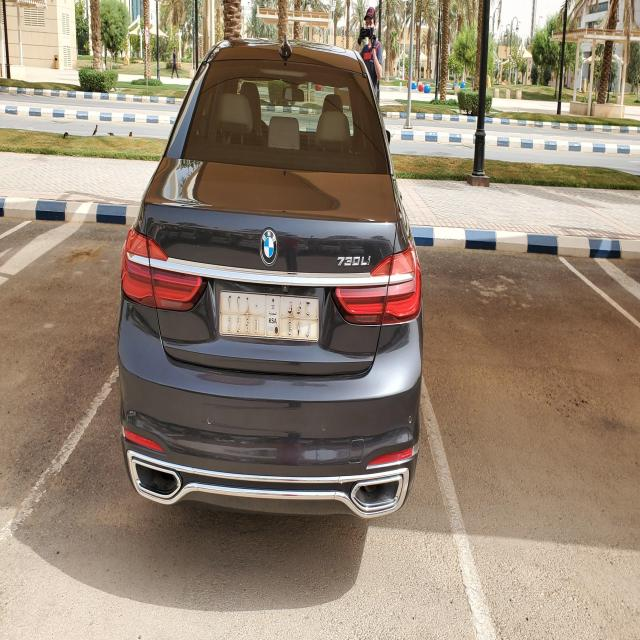license_plate: (218, 282, 321, 360)
